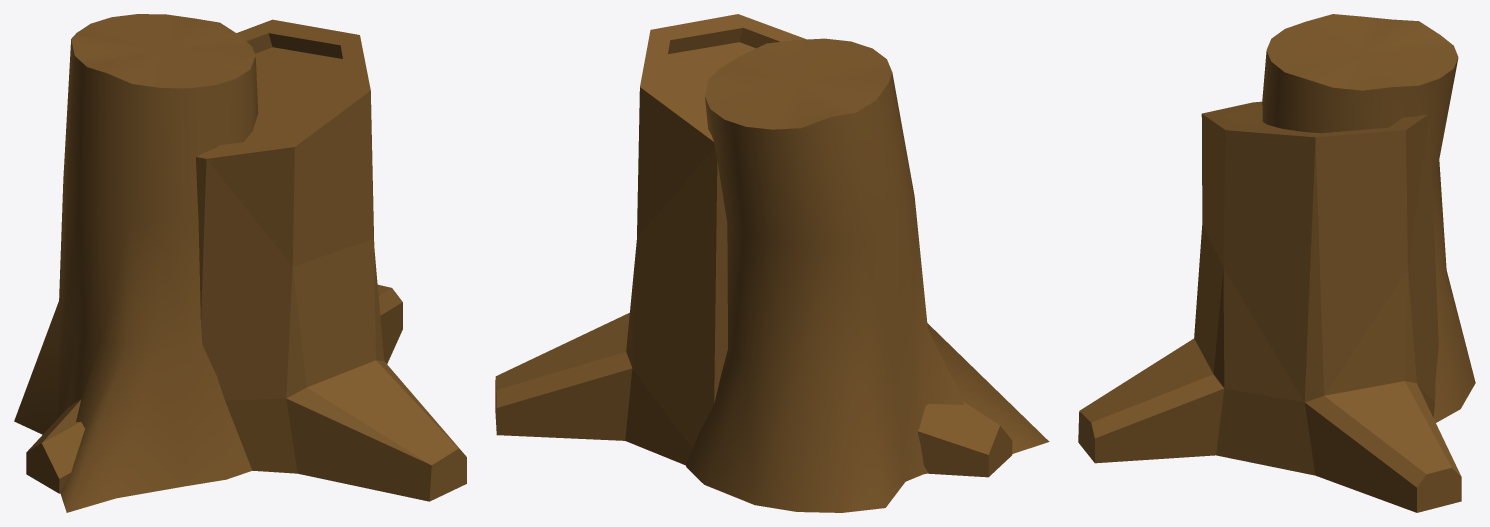
File: NatureAssetsV2Tree_Stumps.fbx
3 views of the same model, side by side, from view 1: azimuth 30°, elevation 25°; view 2: azimuth 150°, elevation 25°; view 3: azimuth 270°, elevation 25° (orthographic). The views are drawn at different scales.
Visible parts, largest first — view 1: Tree_Stump_2, Tree_Stump_1; view 2: Tree_Stump_1, Tree_Stump_2; view 3: Tree_Stump_2, Tree_Stump_1.
Part boxes in pixels (<box>): Tree_Stump_2: <box>26,19,466,501</box>; Tree_Stump_1: <box>14,14,258,512</box>; Tree_Stump_1: <box>686,38,1049,512</box>; Tree_Stump_2: <box>495,14,1012,477</box>; Tree_Stump_2: <box>1078,101,1461,512</box>; Tree_Stump_1: <box>1262,14,1475,422</box>.
Size of the model in its own units: 14.58 by 12.31 by 11.79.
